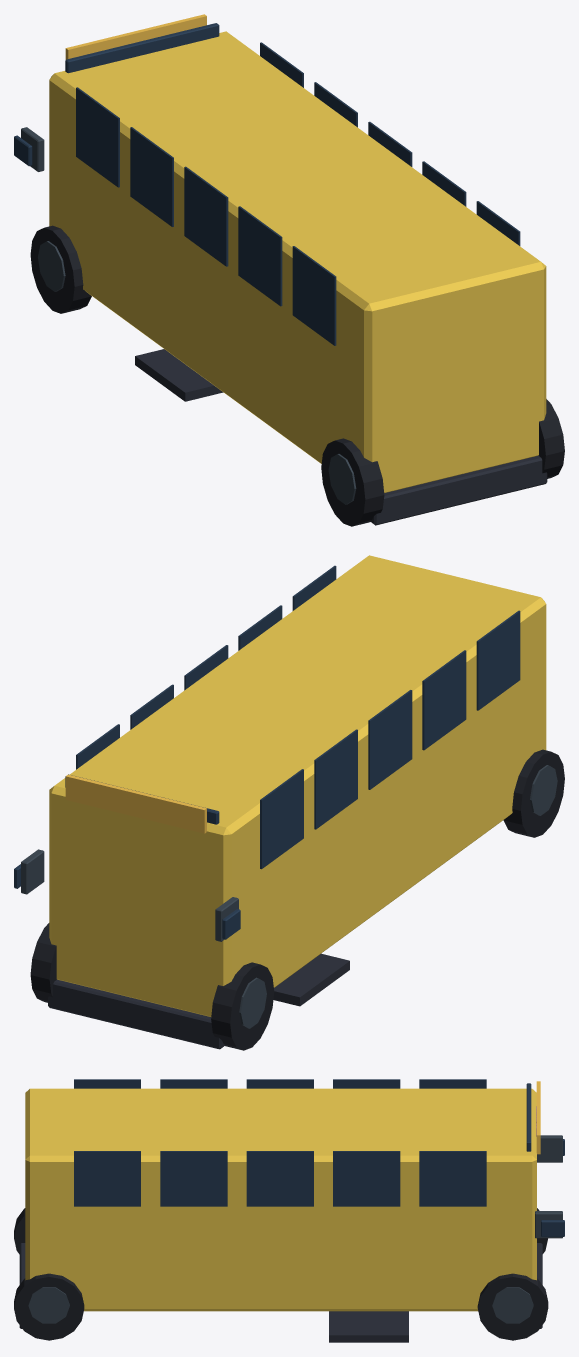
The model's file is onibus.glb.
3 renders of one model, top to bottom at view 1: azimuth 30°, elevation 25°; view 2: azimuth 150°, elevation 25°; view 3: azimuth 270°, elevation 25°, orthographic. The views are drawn at different scales.
Visible parts, largest first — view 1: onibus; view 2: onibus; view 3: onibus.
Boxes of the visible parts, <box> form: onibus: <box>14,14,564,526</box>; onibus: <box>14,555,564,1050</box>; onibus: <box>14,1079,564,1342</box>.
Size of the model in its own units: 2.45 by 2.79 by 6.89.
